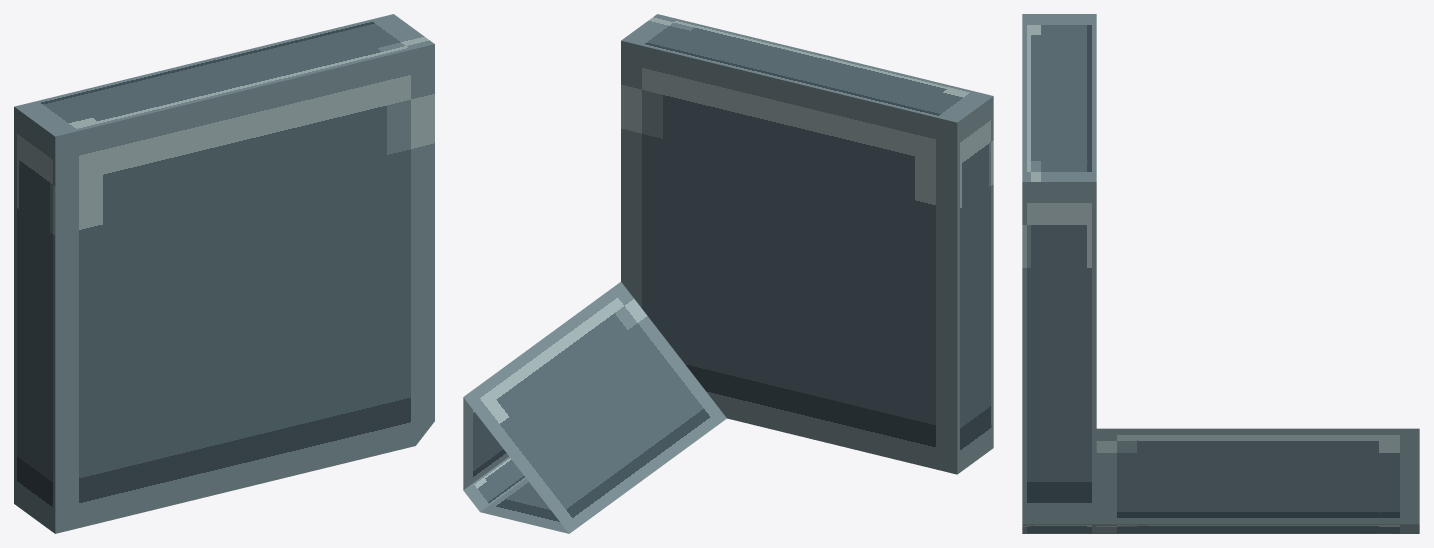
File: casing_d7_rear_x2_y-2.obj
The picture shows the model from 3 angles, left to right: view 1: azimuth 30°, elevation 25°; view 2: azimuth 150°, elevation 25°; view 3: azimuth 270°, elevation 25°; orthographic projection. The views are drawn at different scales.
Visible parts, largest first — view 1: d7_rear_x2_y-2; view 2: d7_rear_x2_y-2; view 3: d7_rear_x2_y-2.
Part boxes in pixels (bbox=[...]): d7_rear_x2_y-2: bbox=[14, 14, 434, 533]; d7_rear_x2_y-2: bbox=[463, 14, 993, 533]; d7_rear_x2_y-2: bbox=[1022, 14, 1419, 533].
Bounding box in the file's own units: 1 × 1 × 1.
